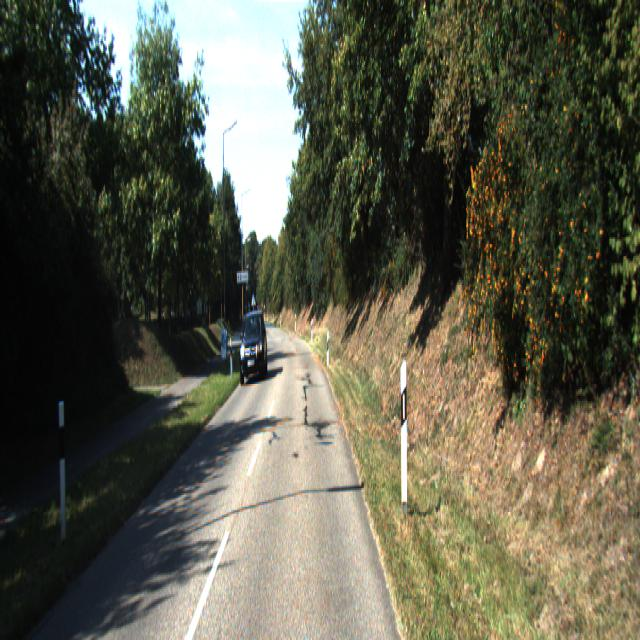Car: (239, 309, 269, 386)
